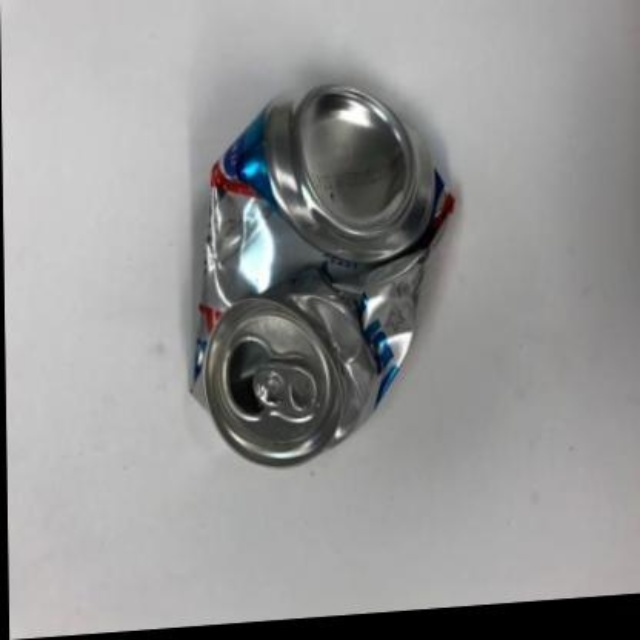trash: (192, 85, 452, 463)
